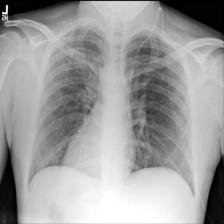normal: (27, 22, 197, 201)
